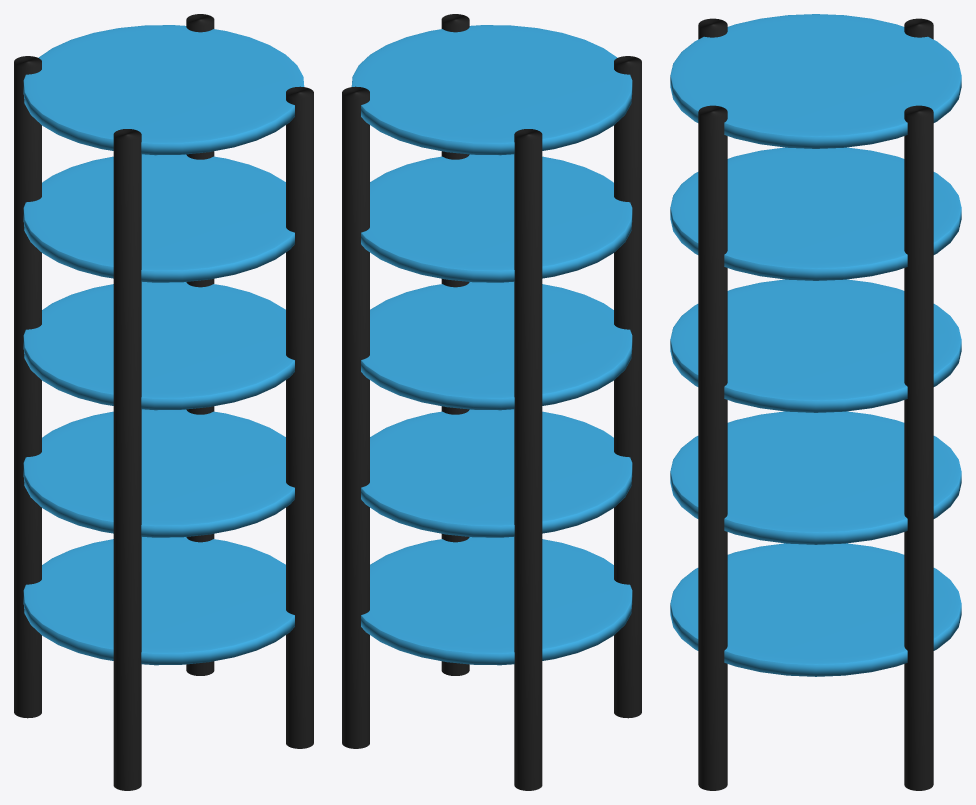
Rendered from RoundShelf.fbx.
The picture shows the model from 3 angles, left to right: view 1: azimuth 30°, elevation 25°; view 2: azimuth 150°, elevation 25°; view 3: azimuth 270°, elevation 25°; orthographic projection. The views are drawn at different scales.
Visible parts, largest first — view 1: Cylinder.005, Cylinder.004, Cylinder.002, Cylinder, Cylinder.003, Cylinder.001, Cylinder.008, Cylinder.006, Cylinder.007; view 2: Cylinder.005, Cylinder.004, Cylinder.002, Cylinder, Cylinder.003, Cylinder.006, Cylinder.007, Cylinder.001, Cylinder.008; view 3: Cylinder.005, Cylinder.002, Cylinder.003, Cylinder, Cylinder.004, Cylinder.007, Cylinder.008, Cylinder.001, Cylinder.006.
Boxes of the visible parts, x1,y1,x2,y2 form: Cylinder.005: [23, 25, 304, 155]; Cylinder.004: [23, 154, 294, 282]; Cylinder.002: [23, 409, 294, 537]; Cylinder: [23, 537, 294, 665]; Cylinder.003: [23, 282, 294, 410]; Cylinder.001: [113, 129, 141, 790]; Cylinder.008: [286, 86, 313, 748]; Cylinder.006: [14, 56, 41, 718]; Cylinder.007: [186, 14, 214, 675]; Cylinder.005: [351, 25, 632, 155]; Cylinder.004: [361, 154, 632, 282]; Cylinder.002: [361, 409, 632, 537]; Cylinder: [361, 537, 632, 665]; Cylinder.003: [361, 282, 632, 410]; Cylinder.006: [514, 129, 542, 790]; Cylinder.007: [342, 86, 369, 748]; Cylinder.001: [614, 56, 641, 718]; Cylinder.008: [441, 14, 469, 675]; Cylinder.005: [670, 14, 961, 148]; Cylinder.002: [670, 411, 961, 544]; Cylinder.003: [670, 279, 961, 412]; Cylinder: [670, 543, 961, 676]; Cylinder.004: [670, 147, 961, 280]; Cylinder.007: [904, 105, 933, 790]; Cylinder.008: [698, 105, 727, 790]; Cylinder.001: [698, 18, 727, 39]; Cylinder.006: [904, 18, 933, 39].
Size of the model in its own units: 200 by 510 by 200.
